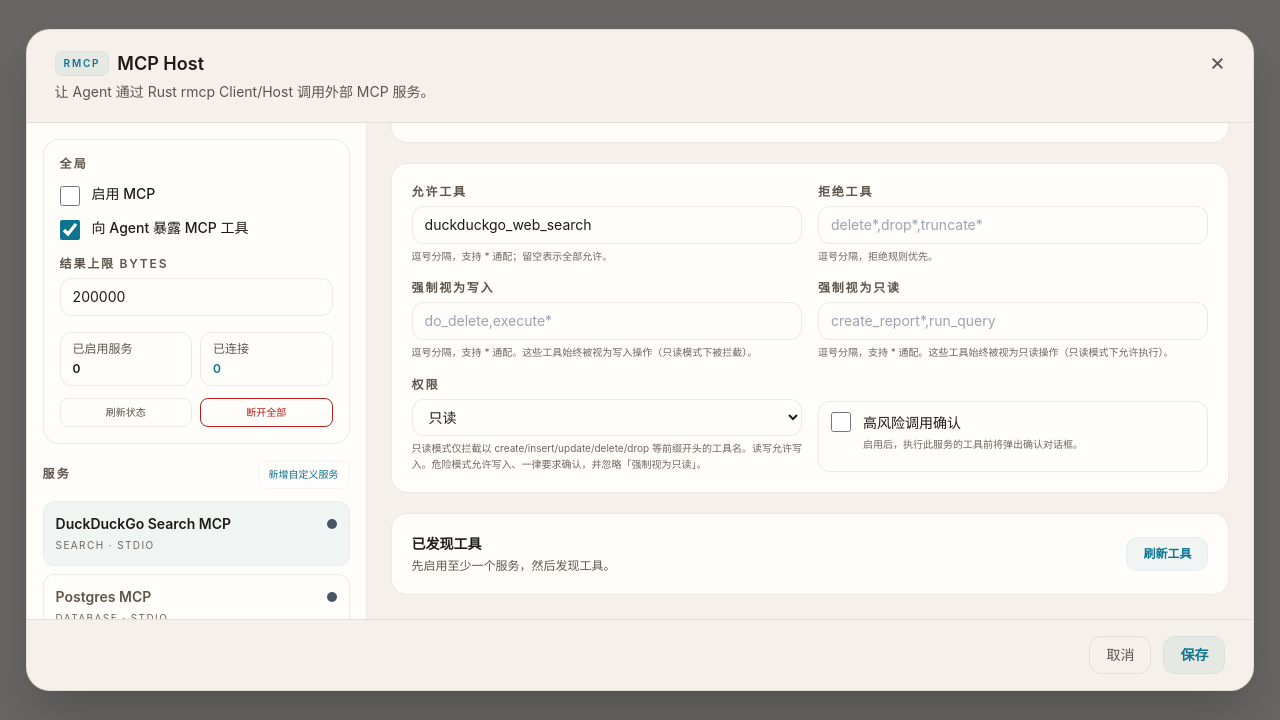
Test: McpSettingsModal › N17：MCP 全局关闭时刷新工具给出明确提示，不显示误导性的 0 tools
(page scrolled)
Click the button "刷新工具".
click(1167, 554)  # box [1126, 537, 1208, 571]
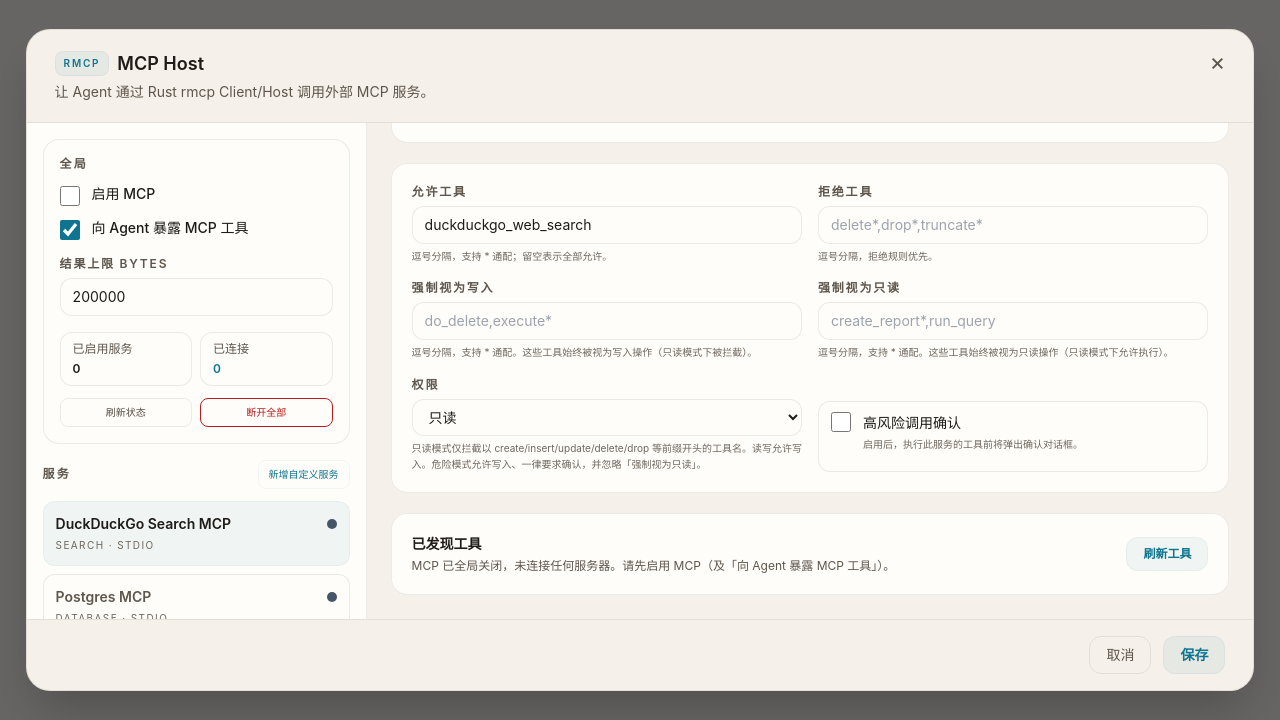
Result: the text "MCP 已全局关闭" is shown at [412, 558, 895, 573]
